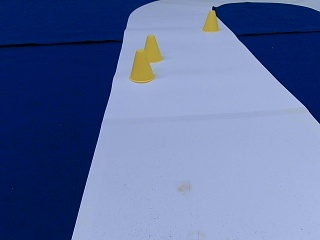cone: (129, 50, 154, 82), (143, 35, 162, 62), (202, 11, 218, 31)
